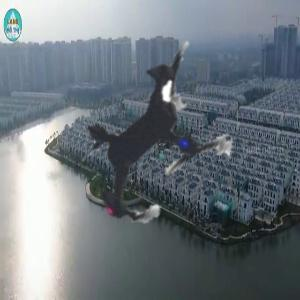drone: (15, 2, 297, 284)
